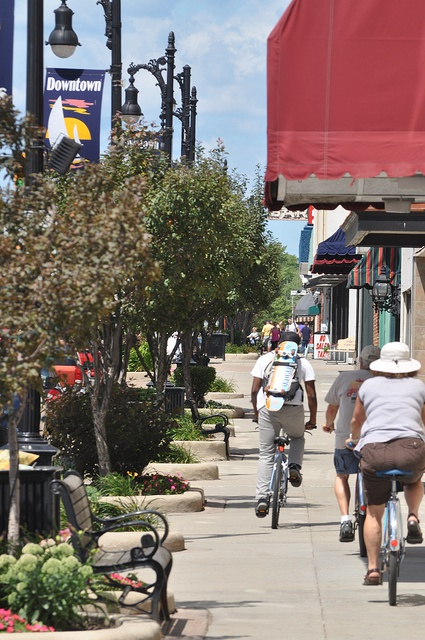non-vehicle: (377, 468, 424, 605), (323, 427, 368, 556), (268, 430, 293, 530)
